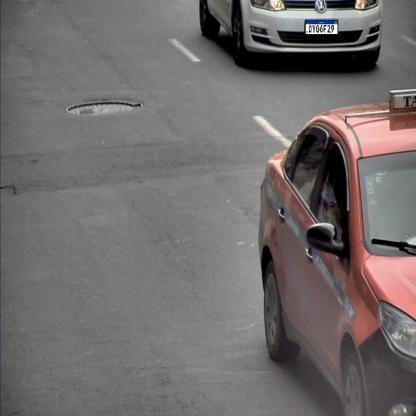PlacaM: (305, 20, 338, 35)
